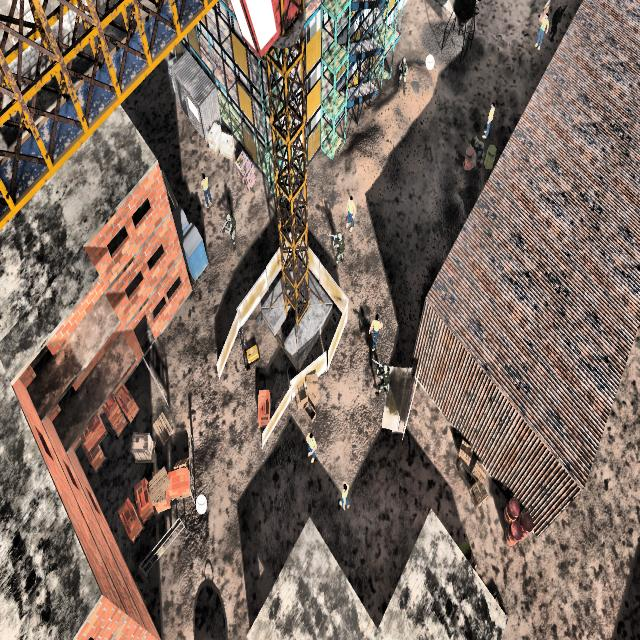bad: (330, 224, 348, 271), (222, 206, 238, 257), (375, 355, 392, 399), (397, 52, 409, 100), (553, 0, 563, 44)
good: (363, 305, 385, 354), (478, 96, 498, 144), (532, 5, 549, 56), (336, 469, 353, 519), (302, 423, 320, 467), (198, 167, 215, 212), (344, 188, 358, 238)
